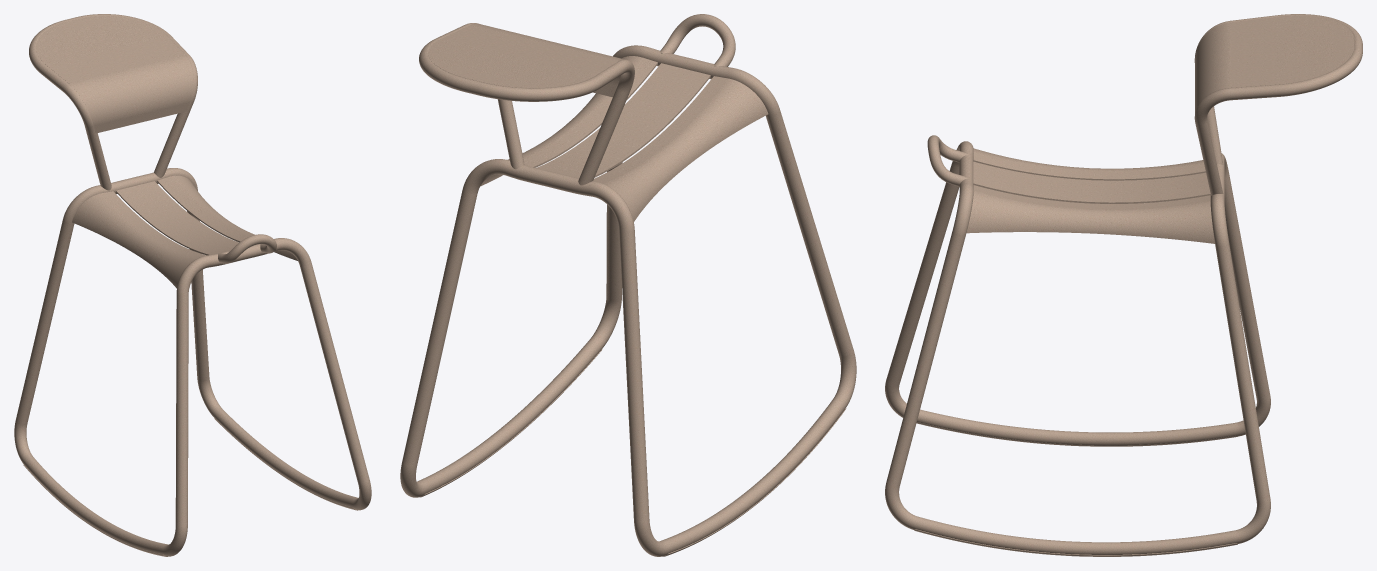
File: work-free.glb
3 renders of one model, left to right at view 1: azimuth 30°, elevation 25°; view 2: azimuth 150°, elevation 25°; view 3: azimuth 270°, elevation 25°, orthographic. The views are drawn at different scales.
Visible parts, largest first — view 1: Gestell; view 2: Gestell; view 3: Gestell.
Boxes of the visible parts, left/top/right/bottom form: Gestell: left=14, top=14, right=371, bottom=556; Gestell: left=400, top=14, right=856, bottom=556; Gestell: left=885, top=14, right=1362, bottom=556.
Bounding box in the file's own units: 0.4853 × 0.8947 × 0.8458.
1 material, 1 textured.
